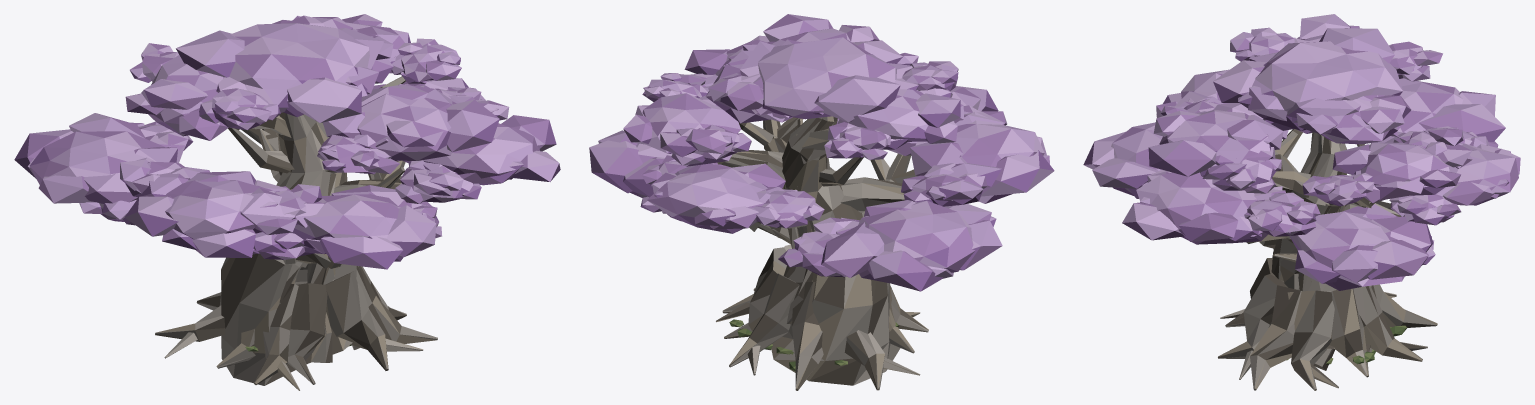
Rendered from Elder_tree-_qel-MBd.glb.
3 renders of one model, left to right at view 1: azimuth 30°, elevation 25°; view 2: azimuth 150°, elevation 25°; view 3: azimuth 270°, elevation 25°, orthographic. The views are drawn at different scales.
Parts seen in each view (by area): view 1: Ancient Elder Tree V2; view 2: Ancient Elder Tree V2; view 3: Ancient Elder Tree V2.
Boxes of the visible parts, x1,y1,x2,y2 form: Ancient Elder Tree V2: [14, 14, 560, 390]; Ancient Elder Tree V2: [589, 14, 1054, 390]; Ancient Elder Tree V2: [1083, 14, 1520, 390].
Size of the model in its own units: 8.29 by 5.99 by 7.86.
